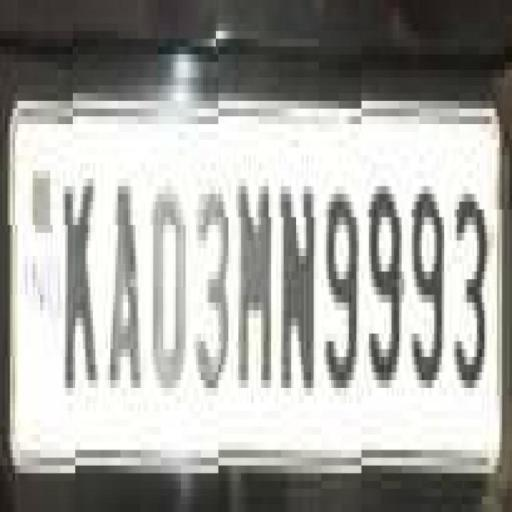number plate: (0, 70, 487, 480)
